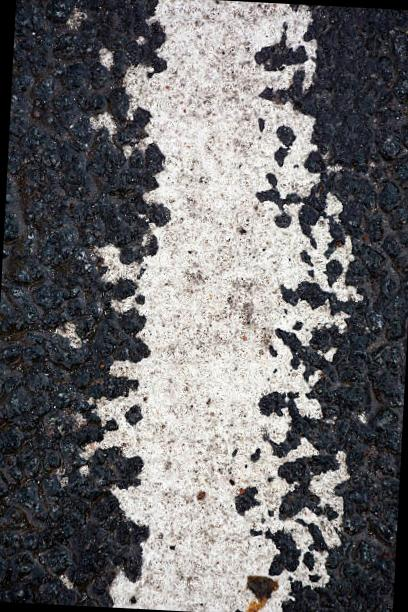faded_road_lines: (65, 0, 369, 612)
